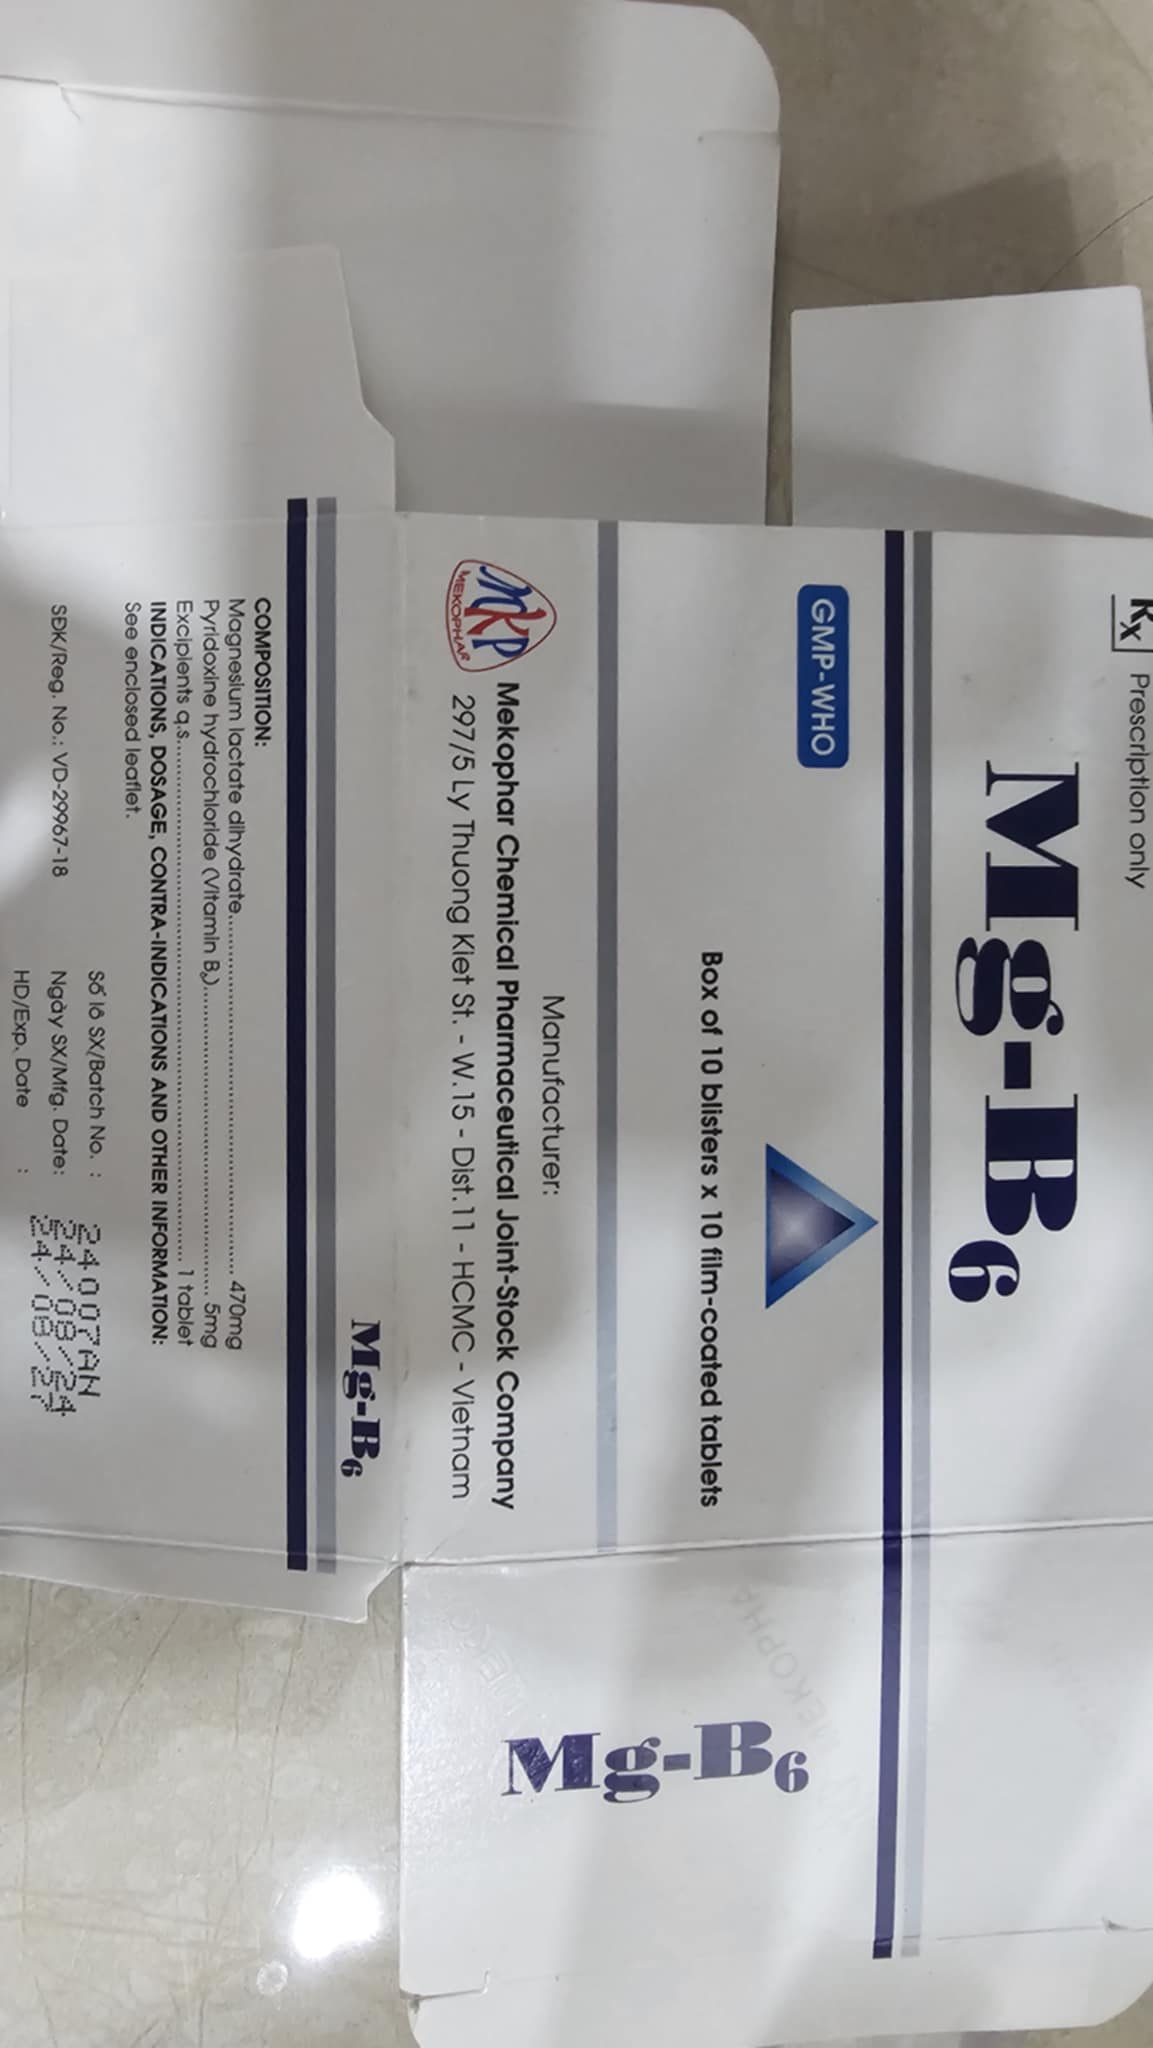Mekocefaclor: (479, 672, 532, 834)
Mg-B6: (961, 741, 1097, 1374)
